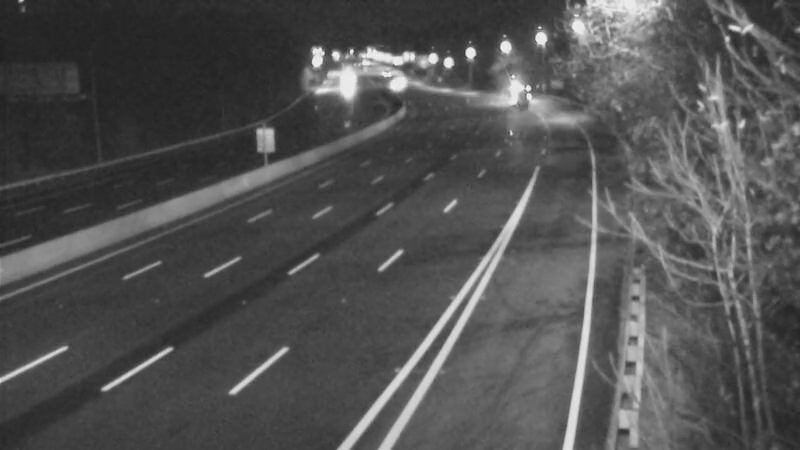vehicle: (370, 62, 420, 112), (486, 68, 536, 118), (322, 59, 372, 109)
